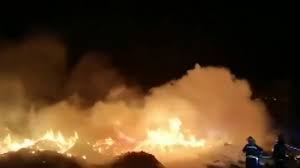fire: (1, 115, 216, 155)
smoke: (5, 41, 268, 115)
